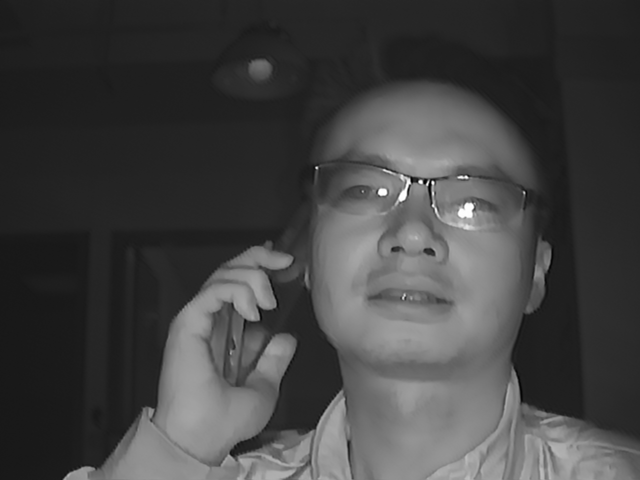hand: (156, 240, 302, 447)
